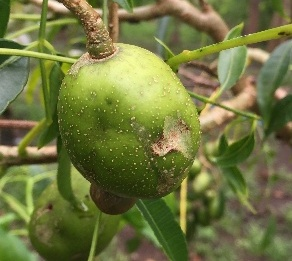Coc: (58, 43, 202, 201)
